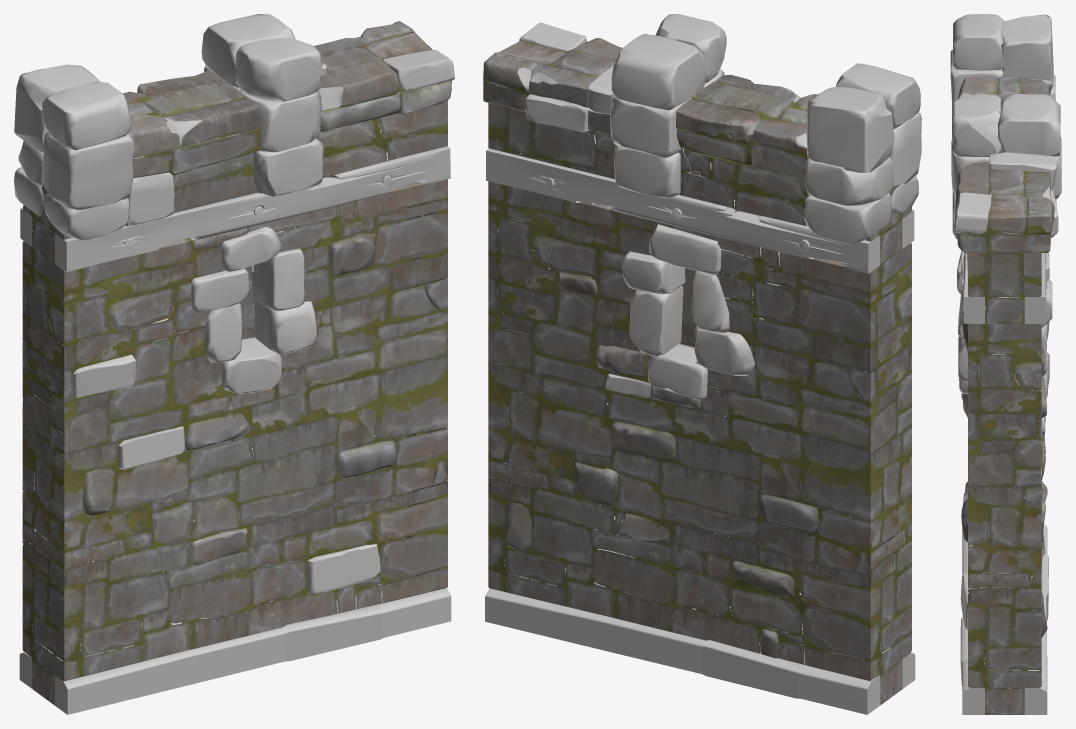
3 renders of one model, left to right at view 1: azimuth 30°, elevation 25°; view 2: azimuth 150°, elevation 25°; view 3: azimuth 270°, elevation 25°, orthographic. The views are drawn at different scales.
Parts seen in each view (by area): view 1: SM_Castle_Wall_4x6_01_v1_LOD0; view 2: SM_Castle_Wall_4x6_01_v1_LOD0; view 3: SM_Castle_Wall_4x6_01_v1_LOD0.
Part boxes in pixels (<box>): SM_Castle_Wall_4x6_01_v1_LOD0: <box>14,14,454,714</box>; SM_Castle_Wall_4x6_01_v1_LOD0: <box>483,14,921,714</box>; SM_Castle_Wall_4x6_01_v1_LOD0: <box>950,14,1061,714</box>.
Size of the model in its own units: 4.05 by 6.05 by 1.13.
